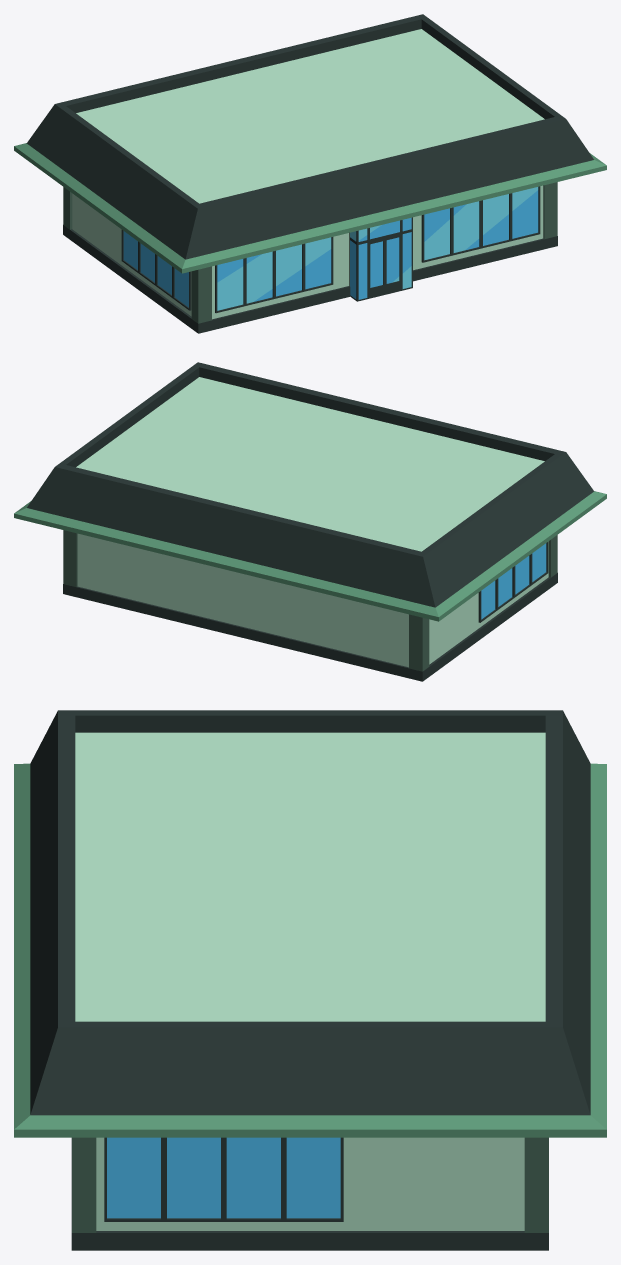
The model's file is Env_CommercialBuilding_01.fbx.
3 views of the same model, one above another, from view 1: azimuth 30°, elevation 25°; view 2: azimuth 150°, elevation 25°; view 3: azimuth 270°, elevation 25° (orthographic). The views are drawn at different scales.
Visible parts, largest first — view 1: Env_CommercialBuilding_01; view 2: Env_CommercialBuilding_01; view 3: Env_CommercialBuilding_01.
Boxes of the visible parts, x1=… form: Env_CommercialBuilding_01: x1=14, y1=14, x2=606, y2=333; Env_CommercialBuilding_01: x1=14, y1=362, x2=606, y2=681; Env_CommercialBuilding_01: x1=14, y1=710, x2=606, y2=1250.
Size of the model in its own units: 1993 by 578 by 1366.
Materials: 1 (1 with a texture image).
